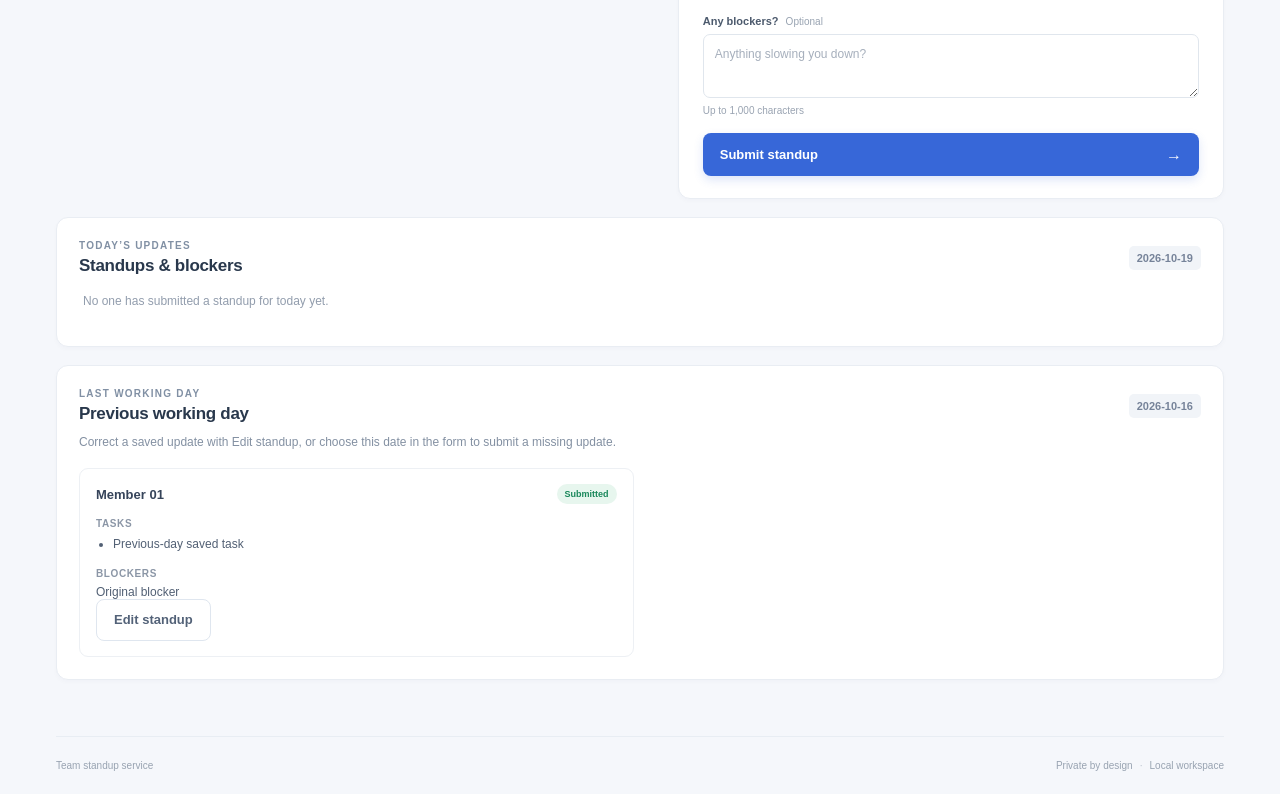
Test case: standup UI › clears a previous-day draft when switching to a missing today entry
The width and height of the screenshot is (1280, 794).
(page scrolled)
Click the button with aria-label "Edit Member 01 standup for 2026-10-16". click: (153, 620)
box: [96,599,211,641]
(page scrolled)
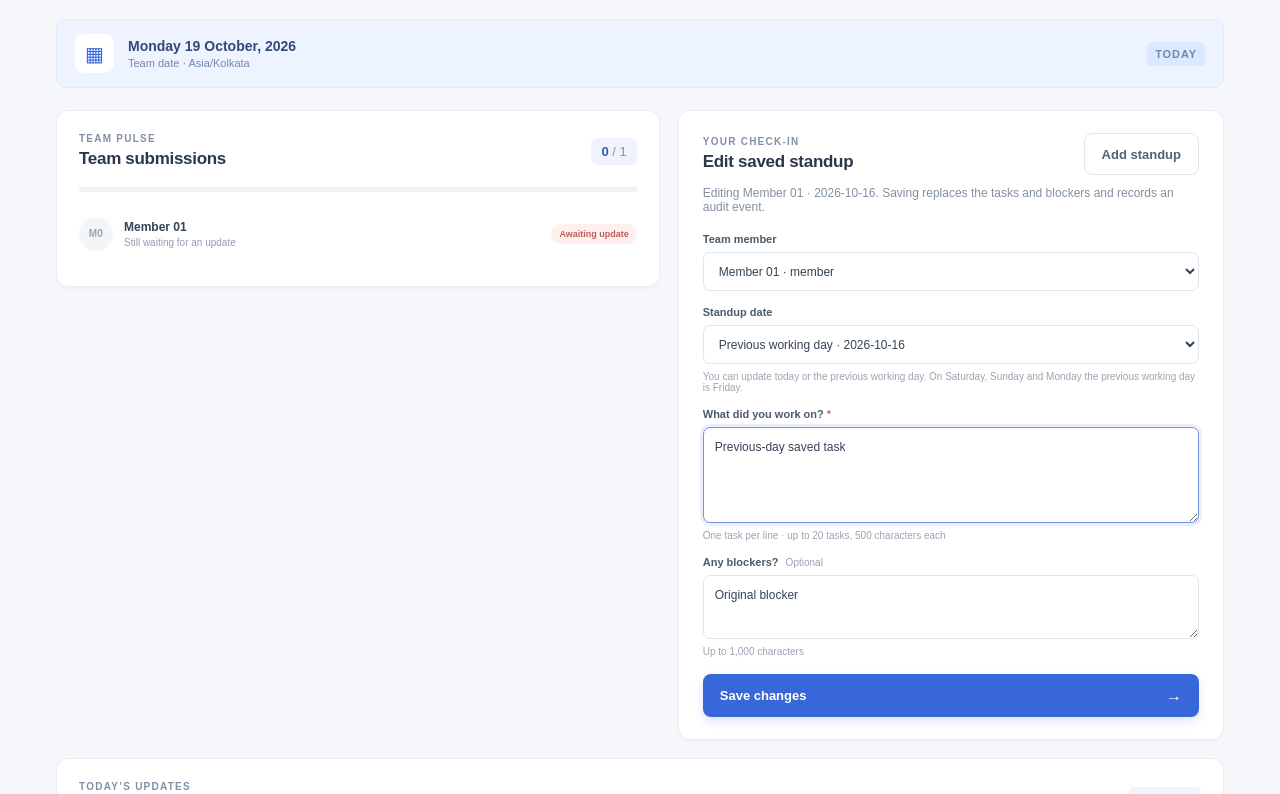
Select "Today · 2026-10-19" in the dropdown labelled "Standup date". click: (951, 344)
box: [703,325,1199,364]
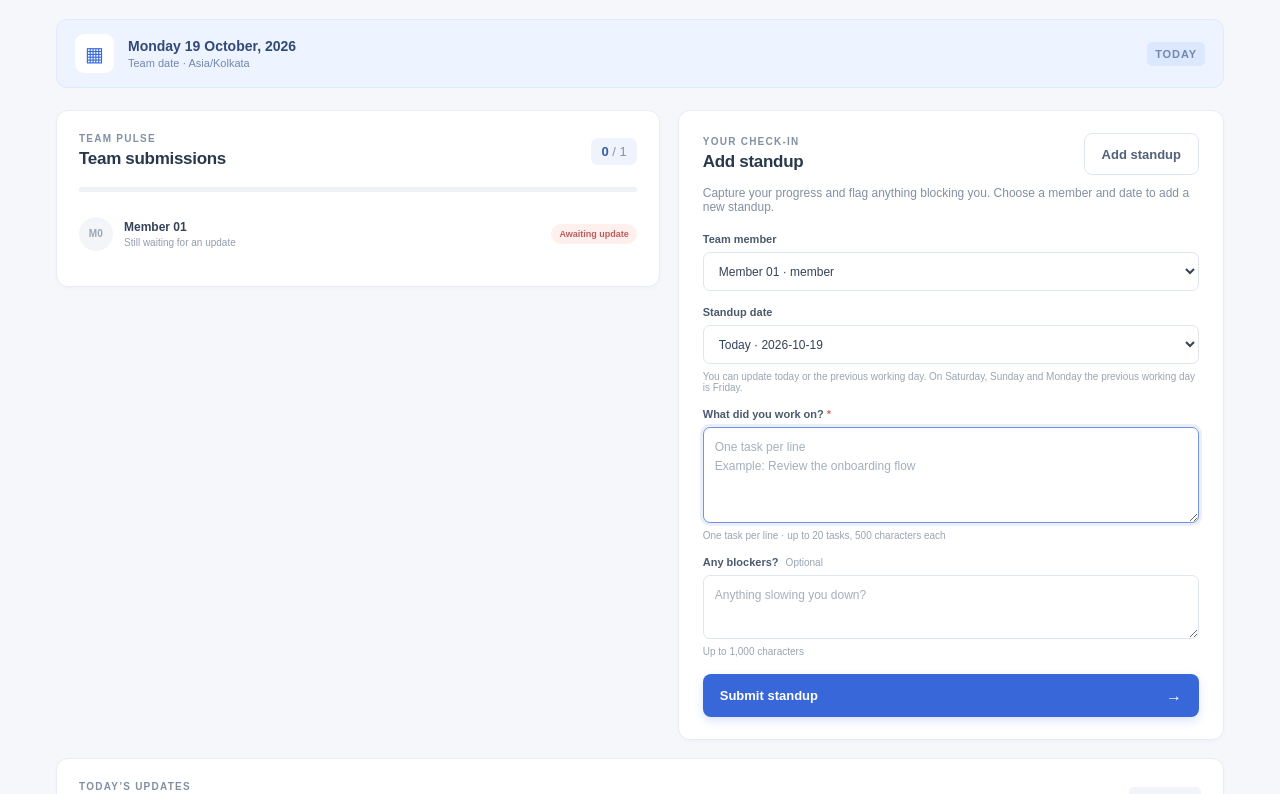
Now the text box labelled "What did you work on? *" is empty, box [703,427,1199,523]
Now the text box labelled "Any blockers? Optional" is empty, box [703,575,1199,639]
Now the button "Submit standup →" is shown, box [703,674,1199,717]
